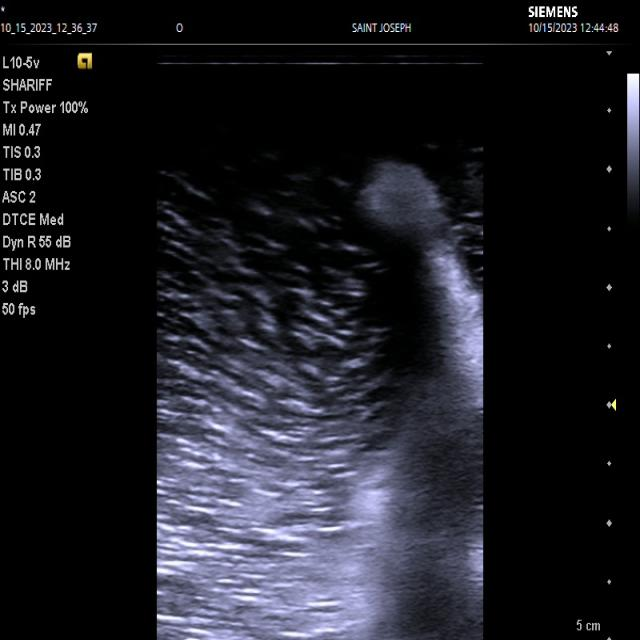tissue: (361, 161, 486, 402), (386, 389, 482, 640)
